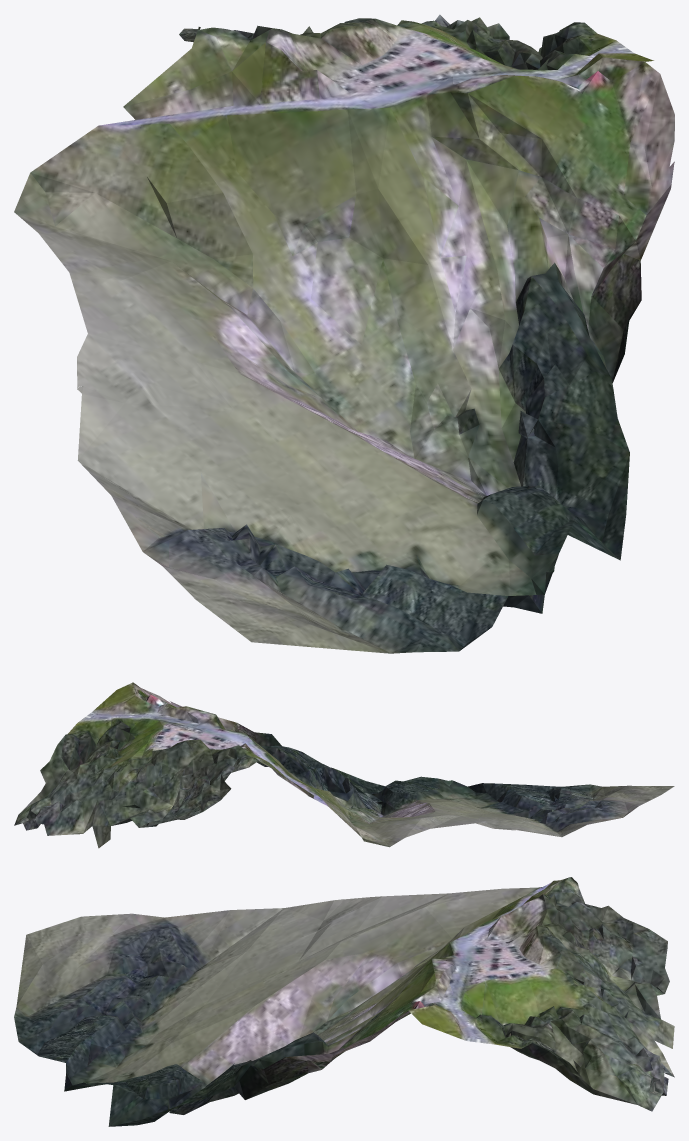
Rendered from wulin.obj.
3 renders of one model, top to bottom at view 1: azimuth 30°, elevation 25°; view 2: azimuth 150°, elevation 25°; view 3: azimuth 270°, elevation 25°, orthographic. The views are drawn at different scales.
Parts seen in each view (by area): view 1: obj_0; view 2: obj_0; view 3: obj_0.
Part boxes in pixels (box(x1,y1,x2,y2)): obj_0: box(14, 14, 674, 653); obj_0: box(14, 682, 674, 848); obj_0: box(14, 877, 674, 1126).
Size of the model in its own units: 7.56 by 3.17 by 8.57.
1 material, 1 textured.
